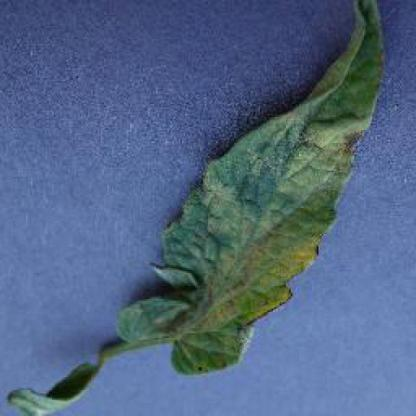Tomato_Leaf_Mold: (119, 1, 384, 374)
